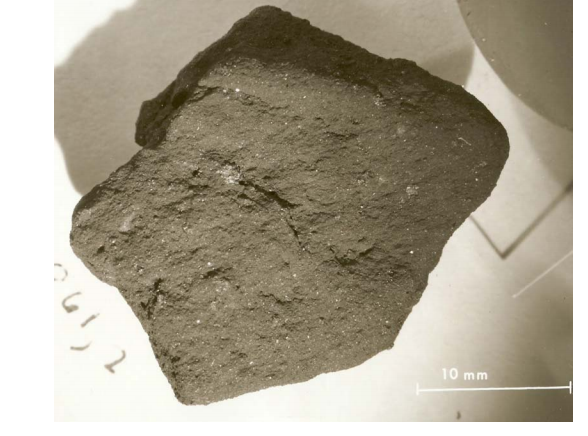Breccia: (51, 19, 499, 396)
